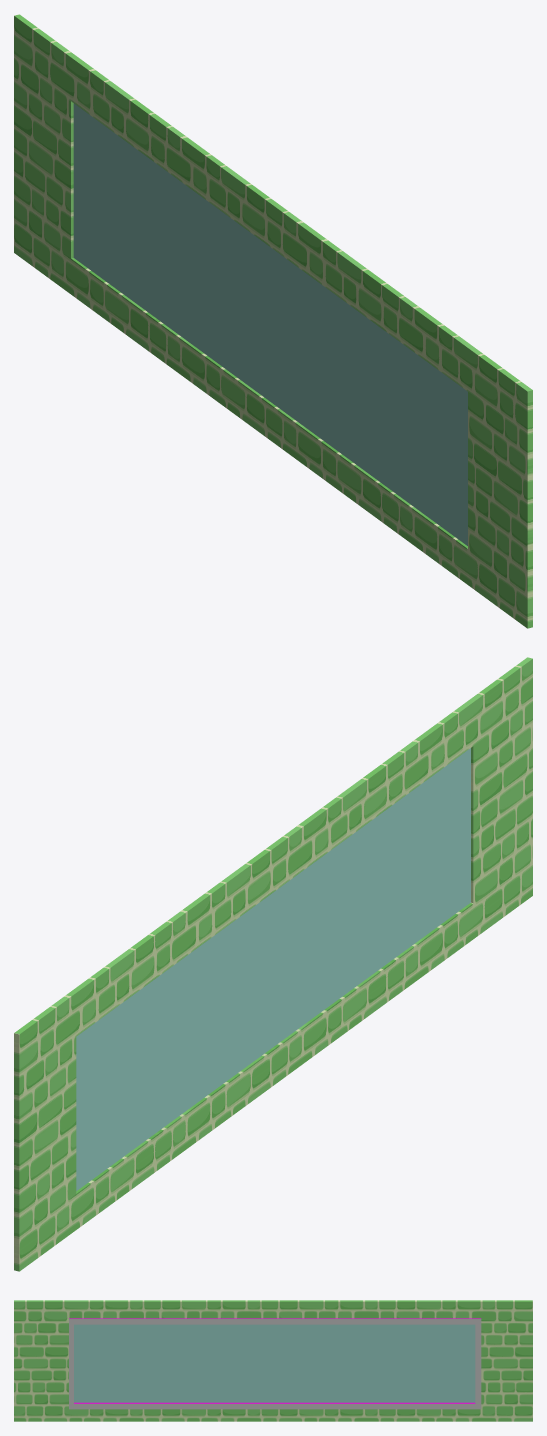
Rendered from PARED VENTANA GRANDE  CAFETERIA.fbx.
3 views of the same model, one above another, from view 1: azimuth 30°, elevation 25°; view 2: azimuth 150°, elevation 25°; view 3: azimuth 270°, elevation 25° (orthographic). The views are drawn at different scales.
Visible parts, largest first — view 1: PARED LARGA VENTANA; view 2: PARED LARGA VENTANA; view 3: PARED LARGA VENTANA.
Part boxes in pixels (x1,y1,x2,y2): PARED LARGA VENTANA: (14, 14, 532, 628); PARED LARGA VENTANA: (14, 657, 532, 1271); PARED LARGA VENTANA: (14, 1300, 532, 1421).
Bounding box in the file's own units: 95.91 × 2622 × 10290.
